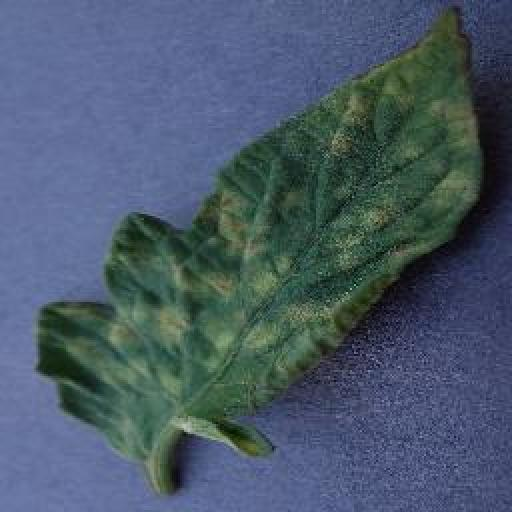disease_tomato: (36, 4, 487, 460)
